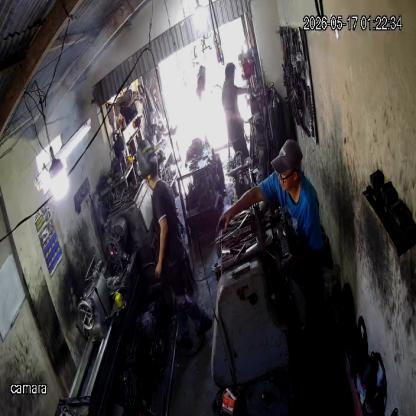lentes: (275, 169, 298, 185)
